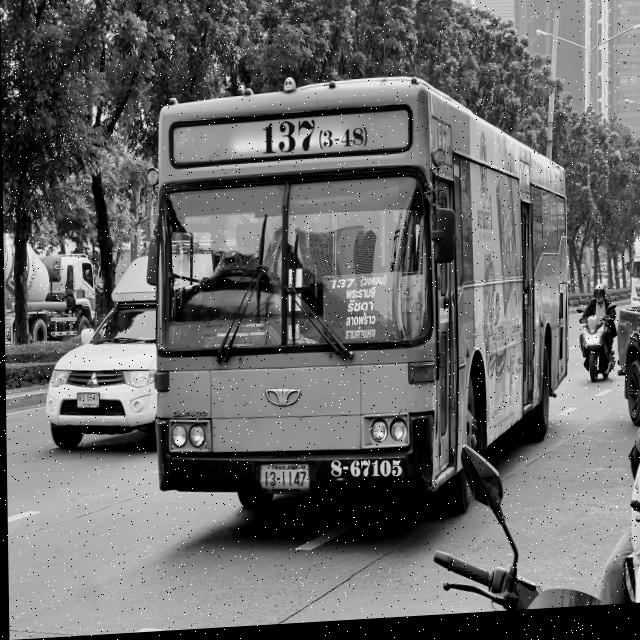BMTA-bus: (139, 51, 575, 543)
Bus Line Number: (250, 119, 373, 160)
Bus Side Number: (325, 457, 404, 489)
Destination Sign: (321, 274, 400, 351)
